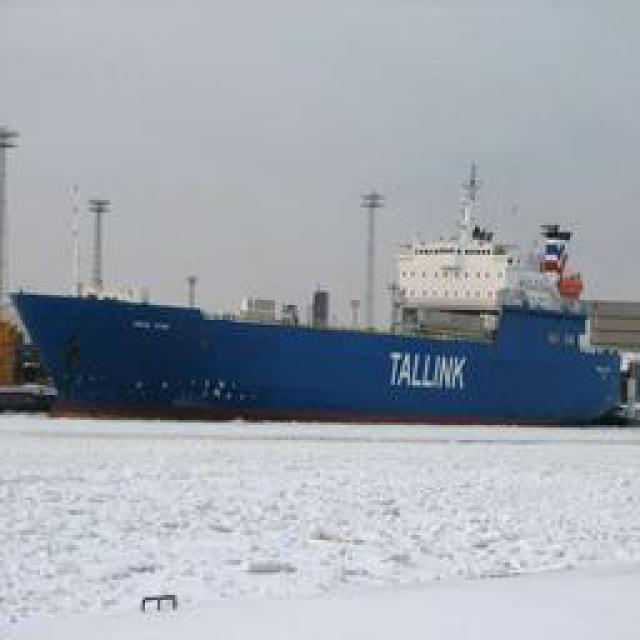Ship: (10, 161, 625, 421)
